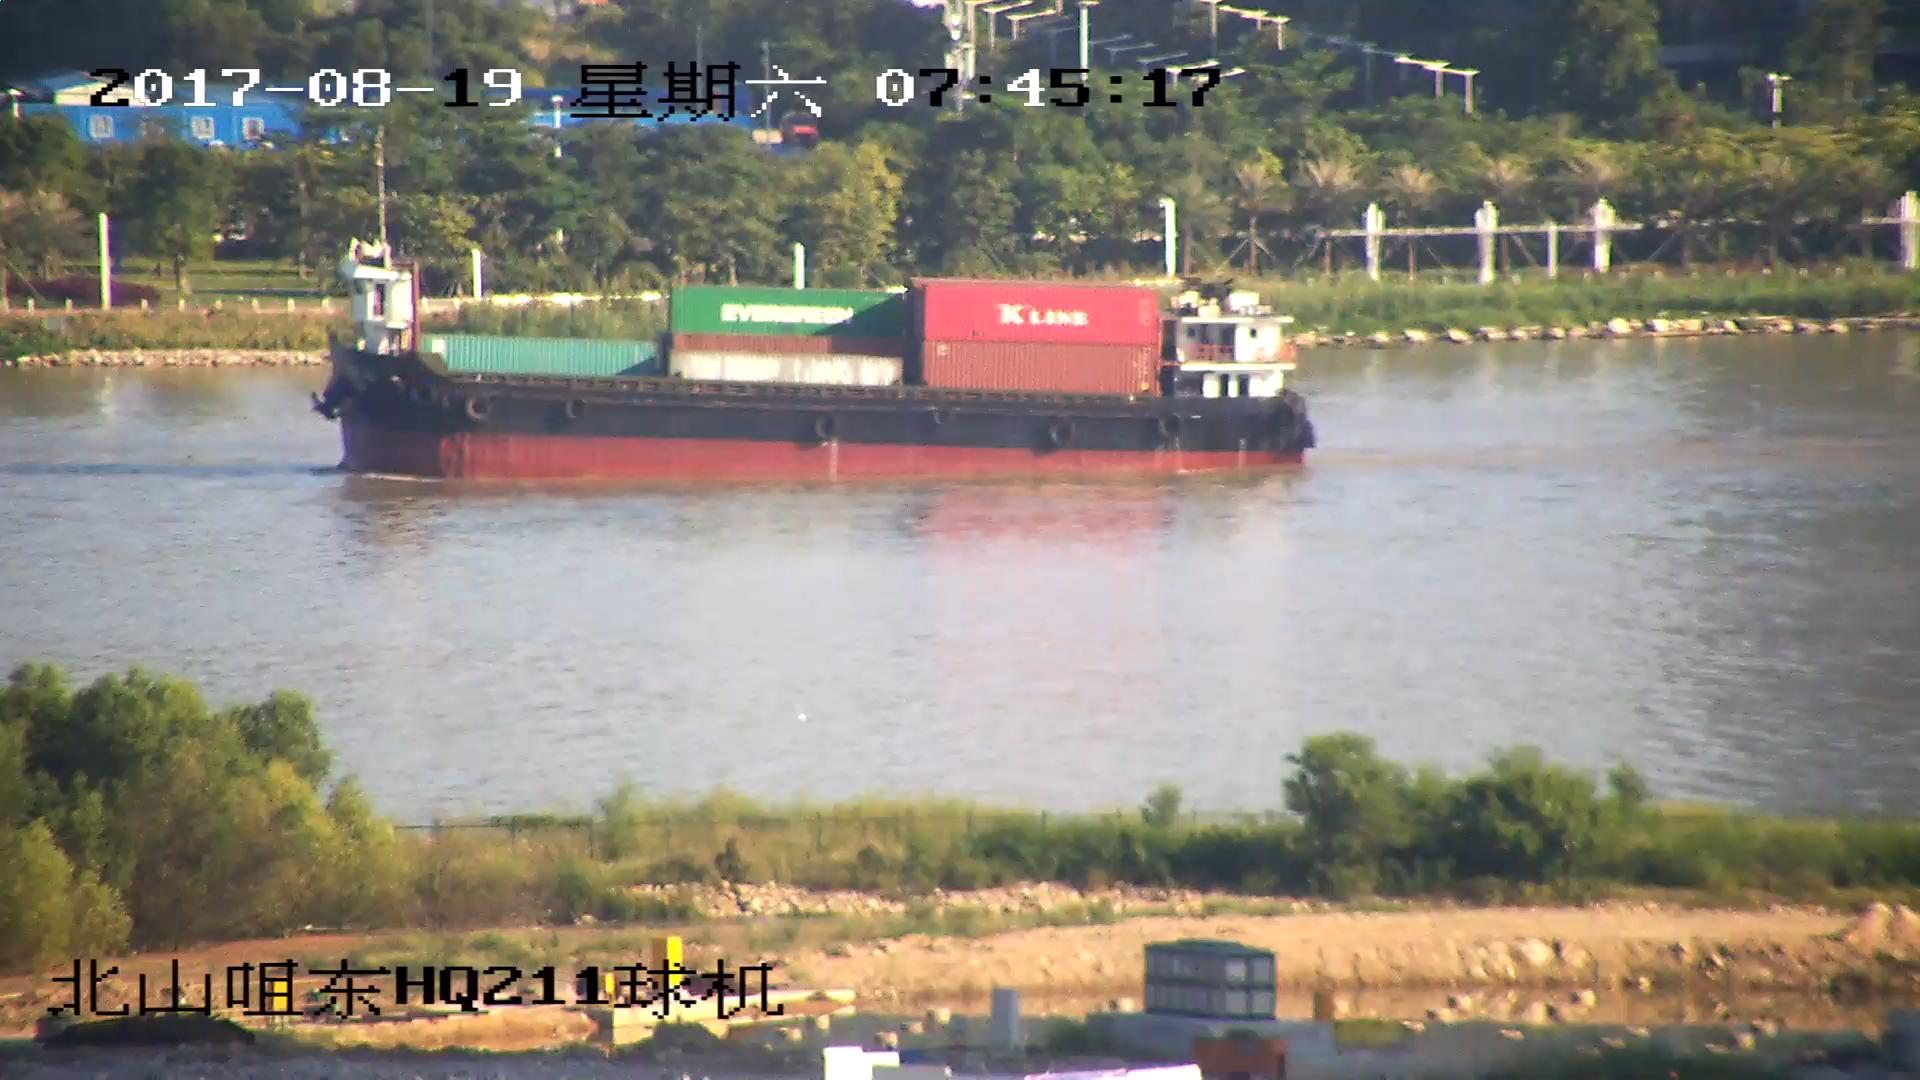container ship: (303, 214, 1324, 490)
